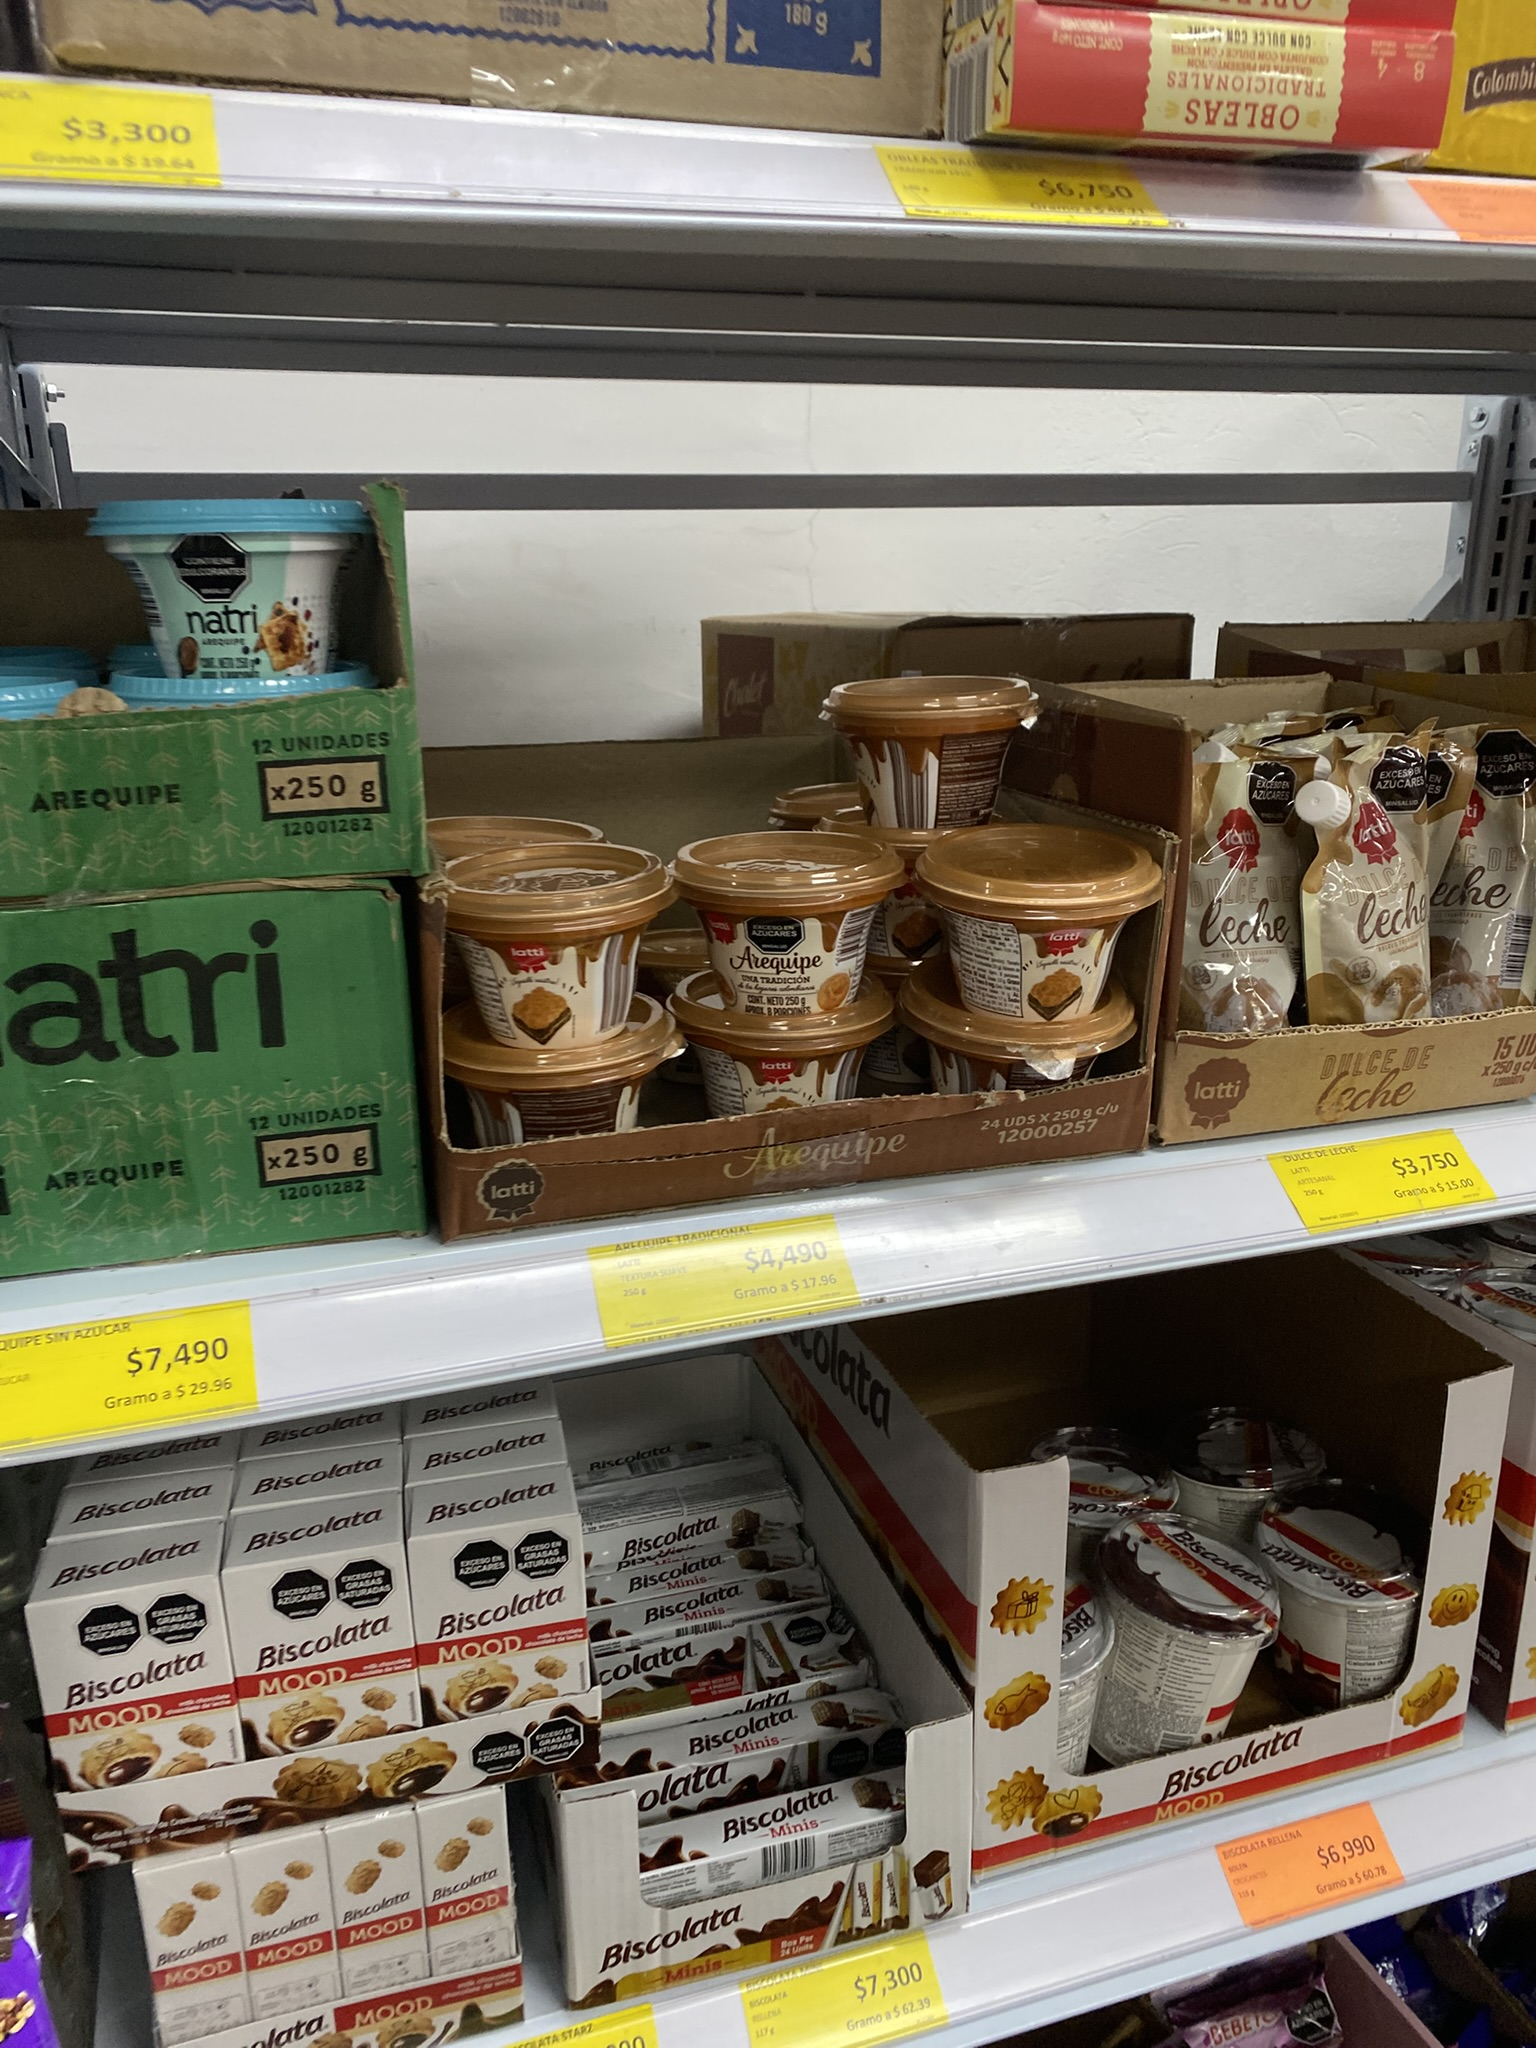Arequipe: (416, 835, 668, 1047), (925, 805, 1152, 998), (673, 832, 907, 1001), (826, 656, 1044, 819), (668, 1005, 900, 1121)
